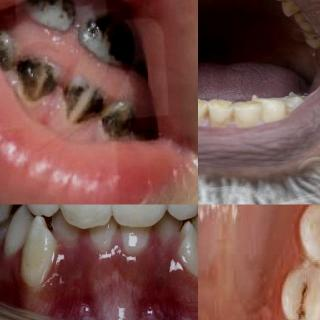cavities: (288, 273, 318, 320)
maligned: (15, 217, 60, 296), (5, 205, 35, 265), (176, 217, 198, 289)
stains: (17, 53, 61, 99), (81, 17, 135, 53), (14, 0, 80, 28), (63, 84, 107, 120), (99, 102, 143, 138), (0, 29, 17, 61), (218, 108, 238, 130), (198, 103, 214, 125)
